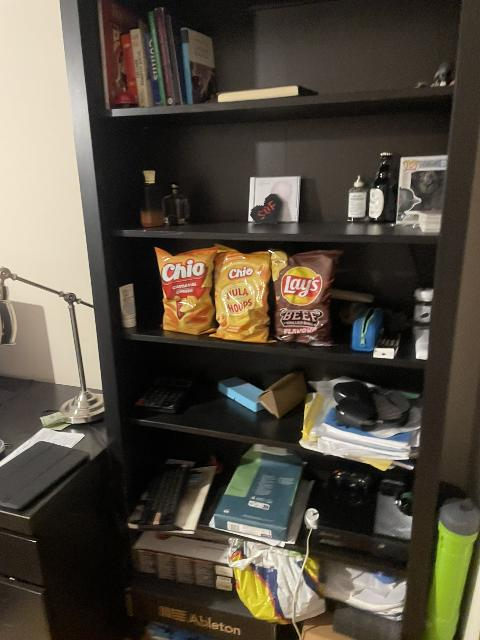Chio Cascaval 125g: (154, 245, 218, 337)
Chio Hula Hoops Cheese 70g: (208, 246, 279, 343)
Lays Beef Grilled Ribs 125g: (268, 249, 341, 344)
